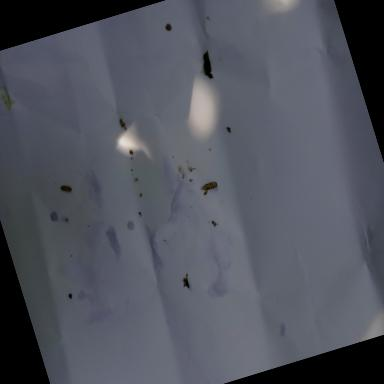pbw: (198, 180, 218, 192), (60, 183, 72, 193)
